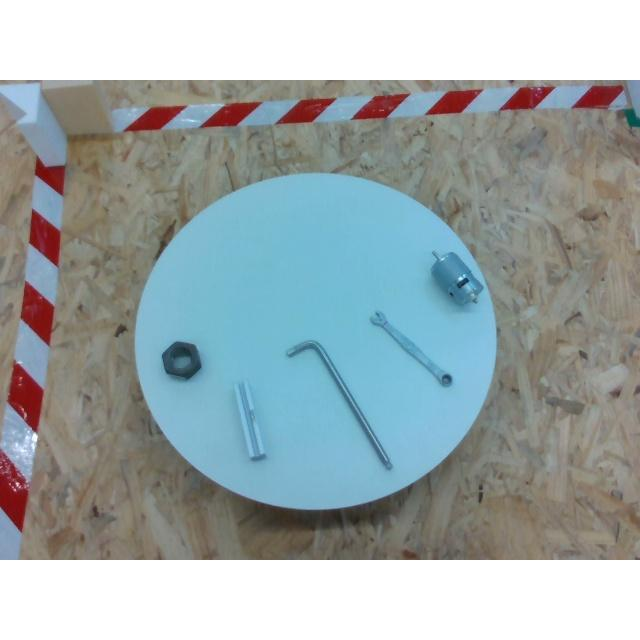AllenKey: (284, 339, 392, 467)
F20_20_G: (234, 380, 266, 460)
M30: (162, 342, 202, 378)
Motor2: (431, 252, 483, 304)
Wrench: (371, 311, 454, 383)
